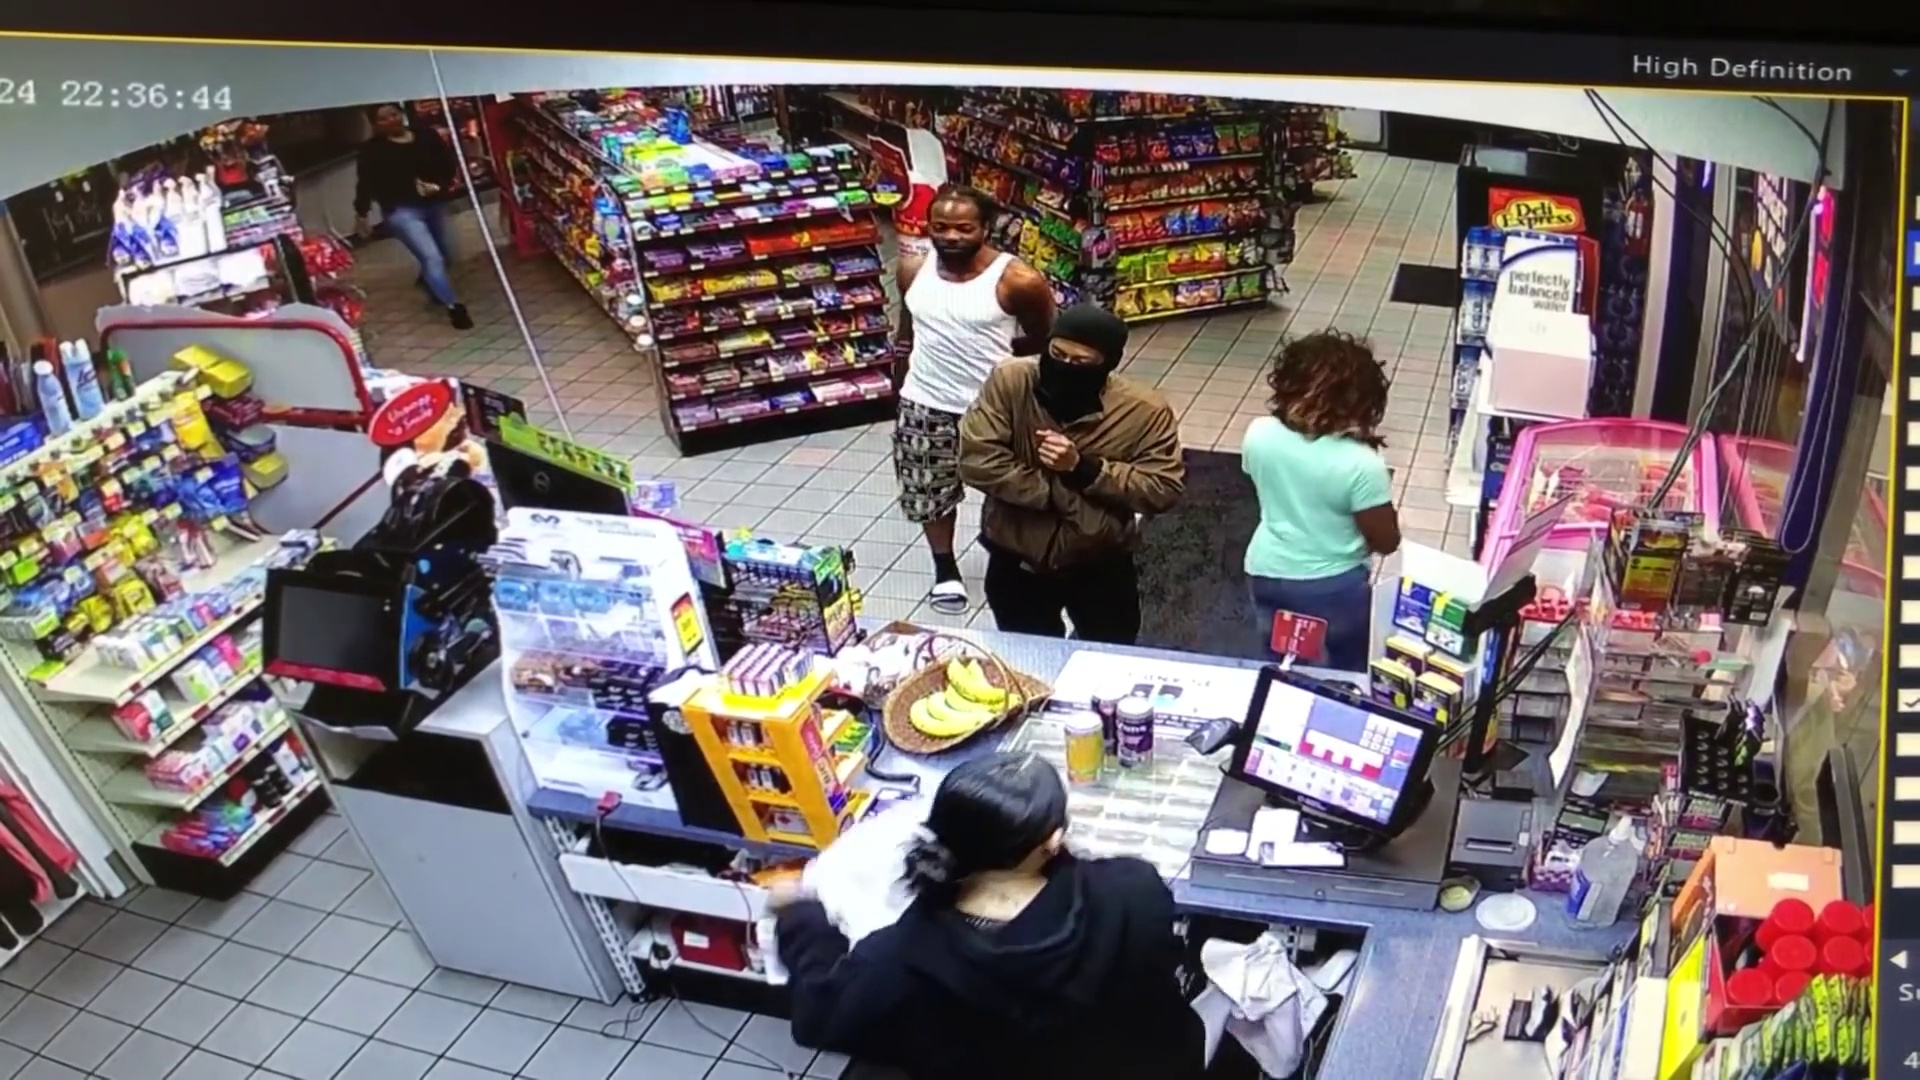face: (1041, 337, 1108, 402), (928, 207, 985, 257), (373, 102, 409, 136)
